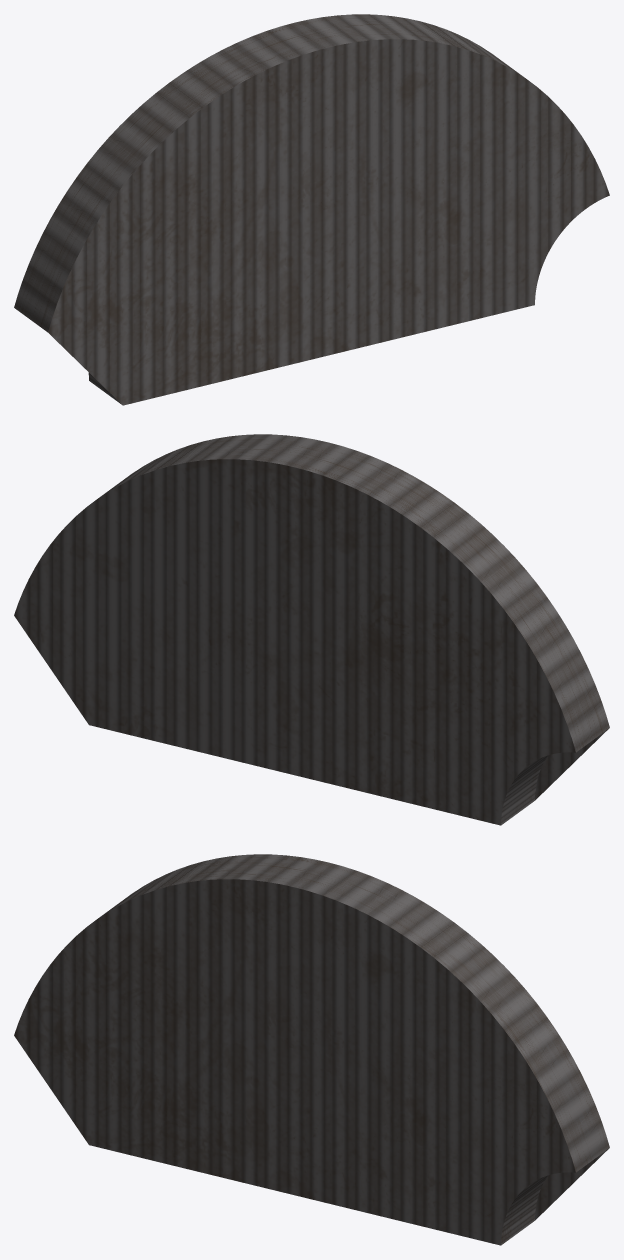
Rendered from gate-part2.fbx.
The picture shows the model from 3 angles, top to bottom: view 1: azimuth 30°, elevation 25°; view 2: azimuth 150°, elevation 25°; view 3: azimuth 330°, elevation 25°; orthographic projection.
Visible parts, largest first — view 1: Large-cylinder; view 2: Large-cylinder; view 3: Large-cylinder.
Boxes of the visible parts, left/top/right/bottom form: Large-cylinder: left=14, top=14, right=609, bottom=405; Large-cylinder: left=14, top=434, right=609, bottom=825; Large-cylinder: left=14, top=854, right=609, bottom=1245.
Bounding box in the file's own units: 0.9549 × 0.5 × 0.1.
